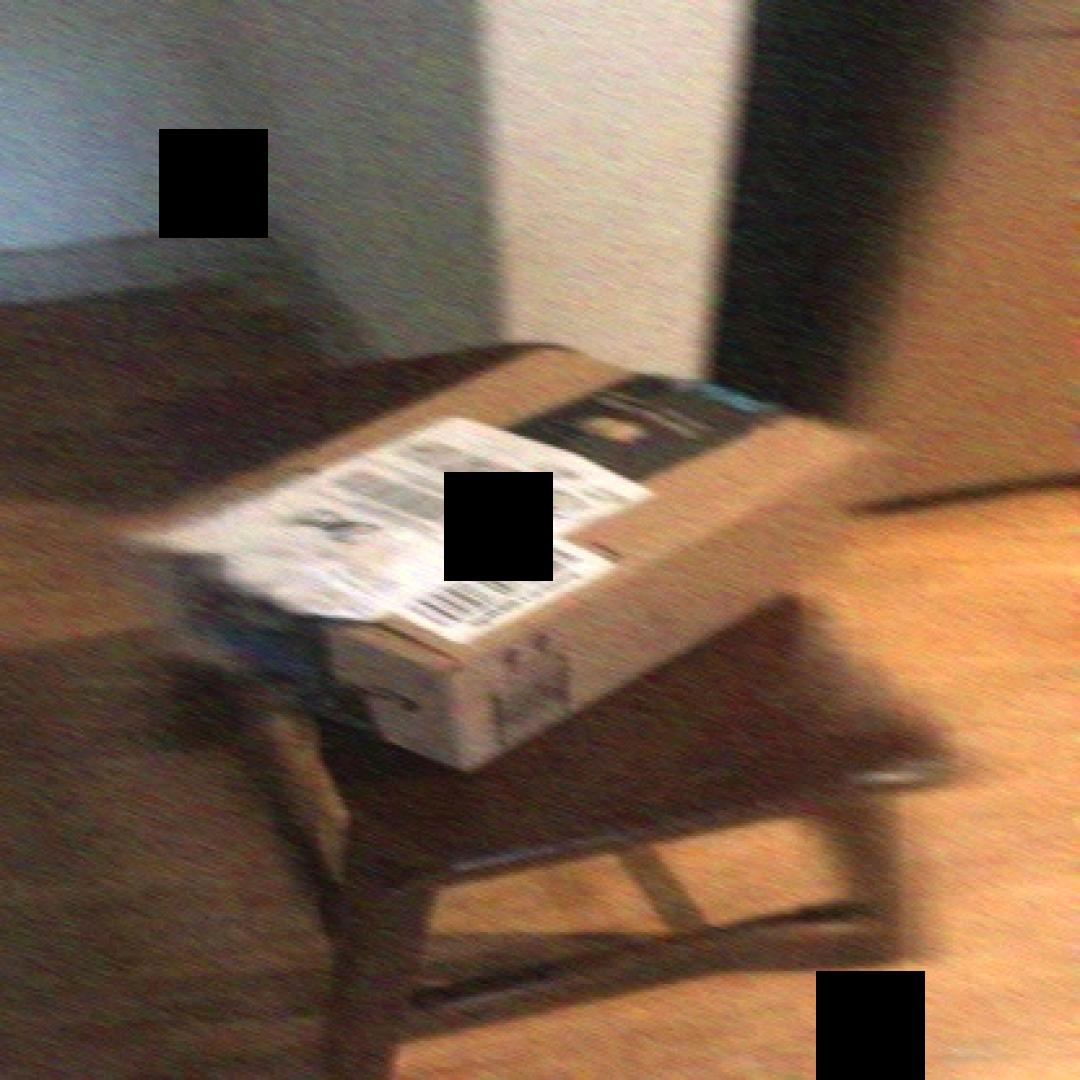package: (96, 343, 914, 789)
